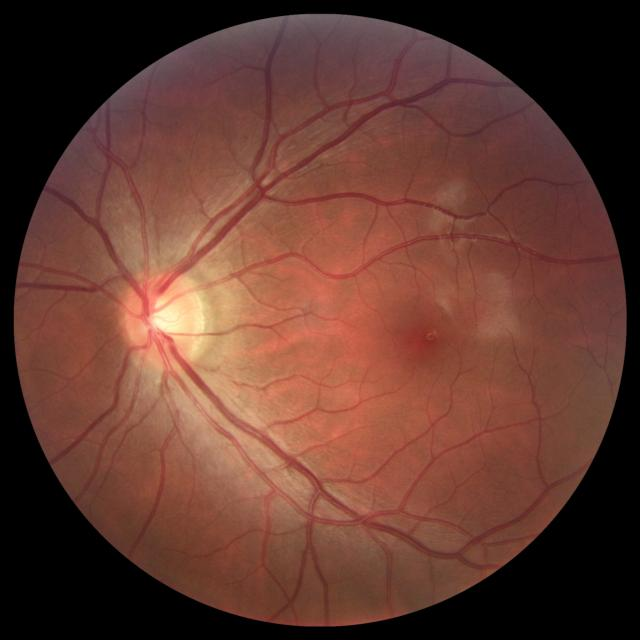OC: (140, 297, 182, 338)
OD: (120, 269, 202, 369)
